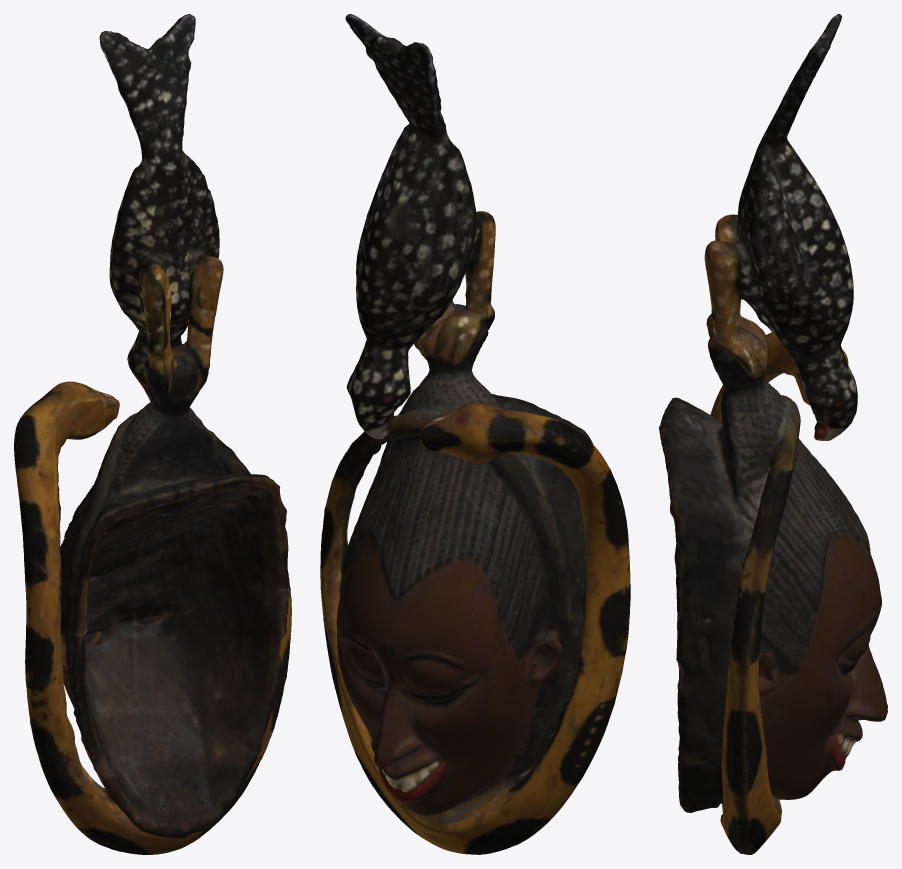
File: preview.glb
The picture shows the model from 3 angles, left to right: view 1: azimuth 30°, elevation 25°; view 2: azimuth 150°, elevation 25°; view 3: azimuth 270°, elevation 25°; orthographic projection. The views are drawn at different scales.
Parts seen in each view (by area): view 1: Object_2; view 2: Object_2; view 3: Object_2.
Boxes of the visible parts, <box> form: Object_2: <box>14,14,291,854</box>; Object_2: <box>320,14,630,854</box>; Object_2: <box>659,14,887,854</box>.
Bounding box in the file's own units: 191 × 528 × 132.
1 material, 1 textured.
